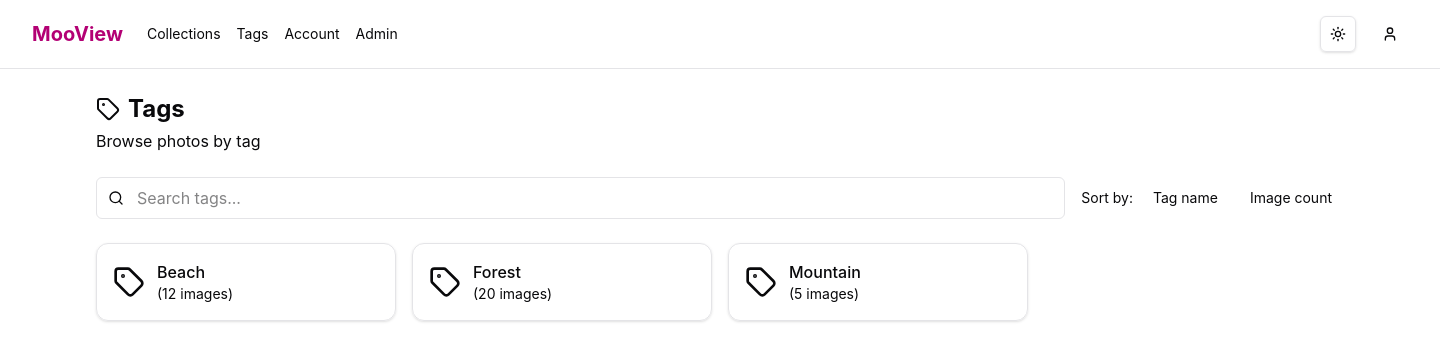
Test: TagsView › filters tags by search query
Expected: the text "Beach" is shown, left=157, top=262, right=205, bottom=282
Type "Beach" into the field with placeholder "Search tags..." at (581, 198), box left=96, top=177, right=1065, bottom=219
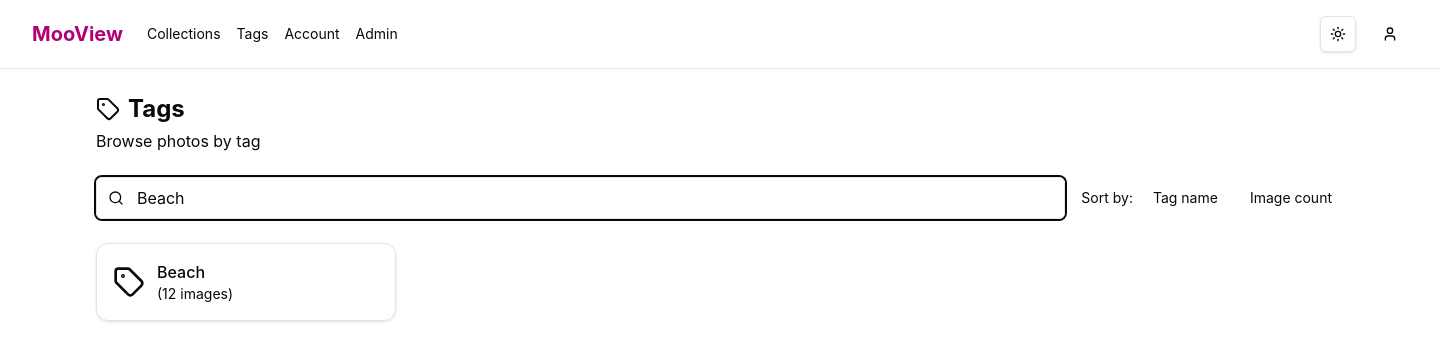
Expected: the text "Beach" is shown, left=157, top=262, right=205, bottom=282
Now the link "Mountain" is gone
Now the link "Forest" is gone
